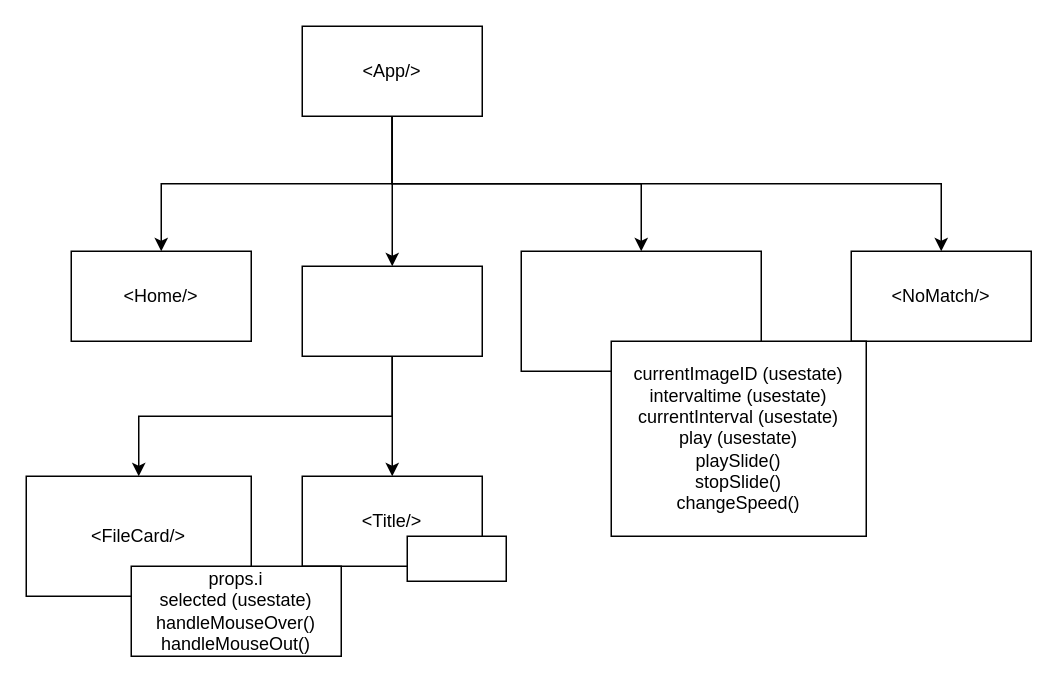
The diagram is 1058 pixels wide and 683 high, and some of its shapes have lost their labels. The shapes that lost their labels are listed below. From the top down, each one's centre as x and y in pixels, then its label:
pixel 391 310: <Gallery/>
pixel 640 310: <Slideshow/>
pixel 456 558: props.name
